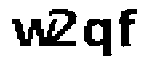2: (48, 4, 79, 52)
f: (115, 5, 140, 50)
q: (83, 15, 114, 59)
w: (9, 17, 57, 48)
